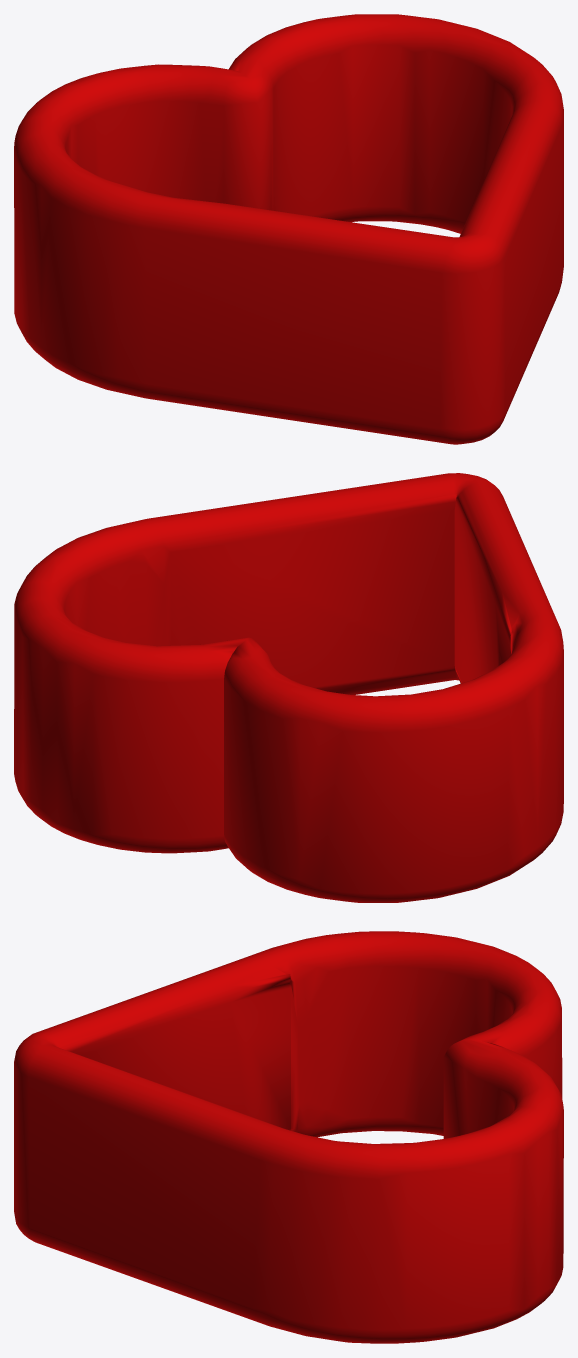
File: Particle-4.dae
3 views of the same model, one above another, from view 1: azimuth 30°, elevation 25°; view 2: azimuth 150°, elevation 25°; view 3: azimuth 270°, elevation 25° (orthographic). The views are drawn at different scales.
Visible parts, largest first — view 1: Particle; view 2: Particle; view 3: Particle.
Part boxes in pixels (box(x1,y1,x2,y2)): Particle: box(14, 14, 563, 444); Particle: box(14, 473, 563, 902); Particle: box(14, 931, 563, 1343).
Size of the model in its own units: 0.1334 by 0.052 by 0.1326.
Materials: 1 (1 with a texture image).
